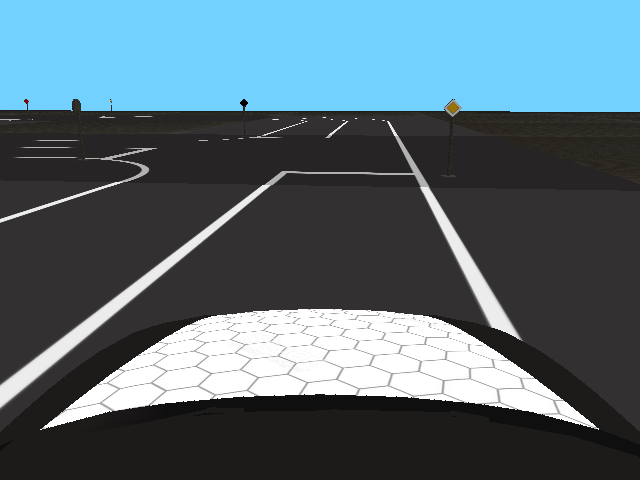yellow_light: (444, 99, 462, 118)
